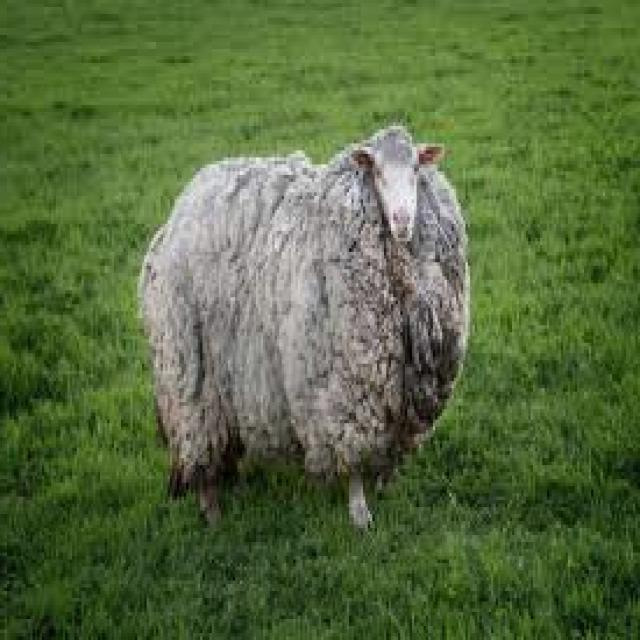sheep: (140, 126, 468, 525)
